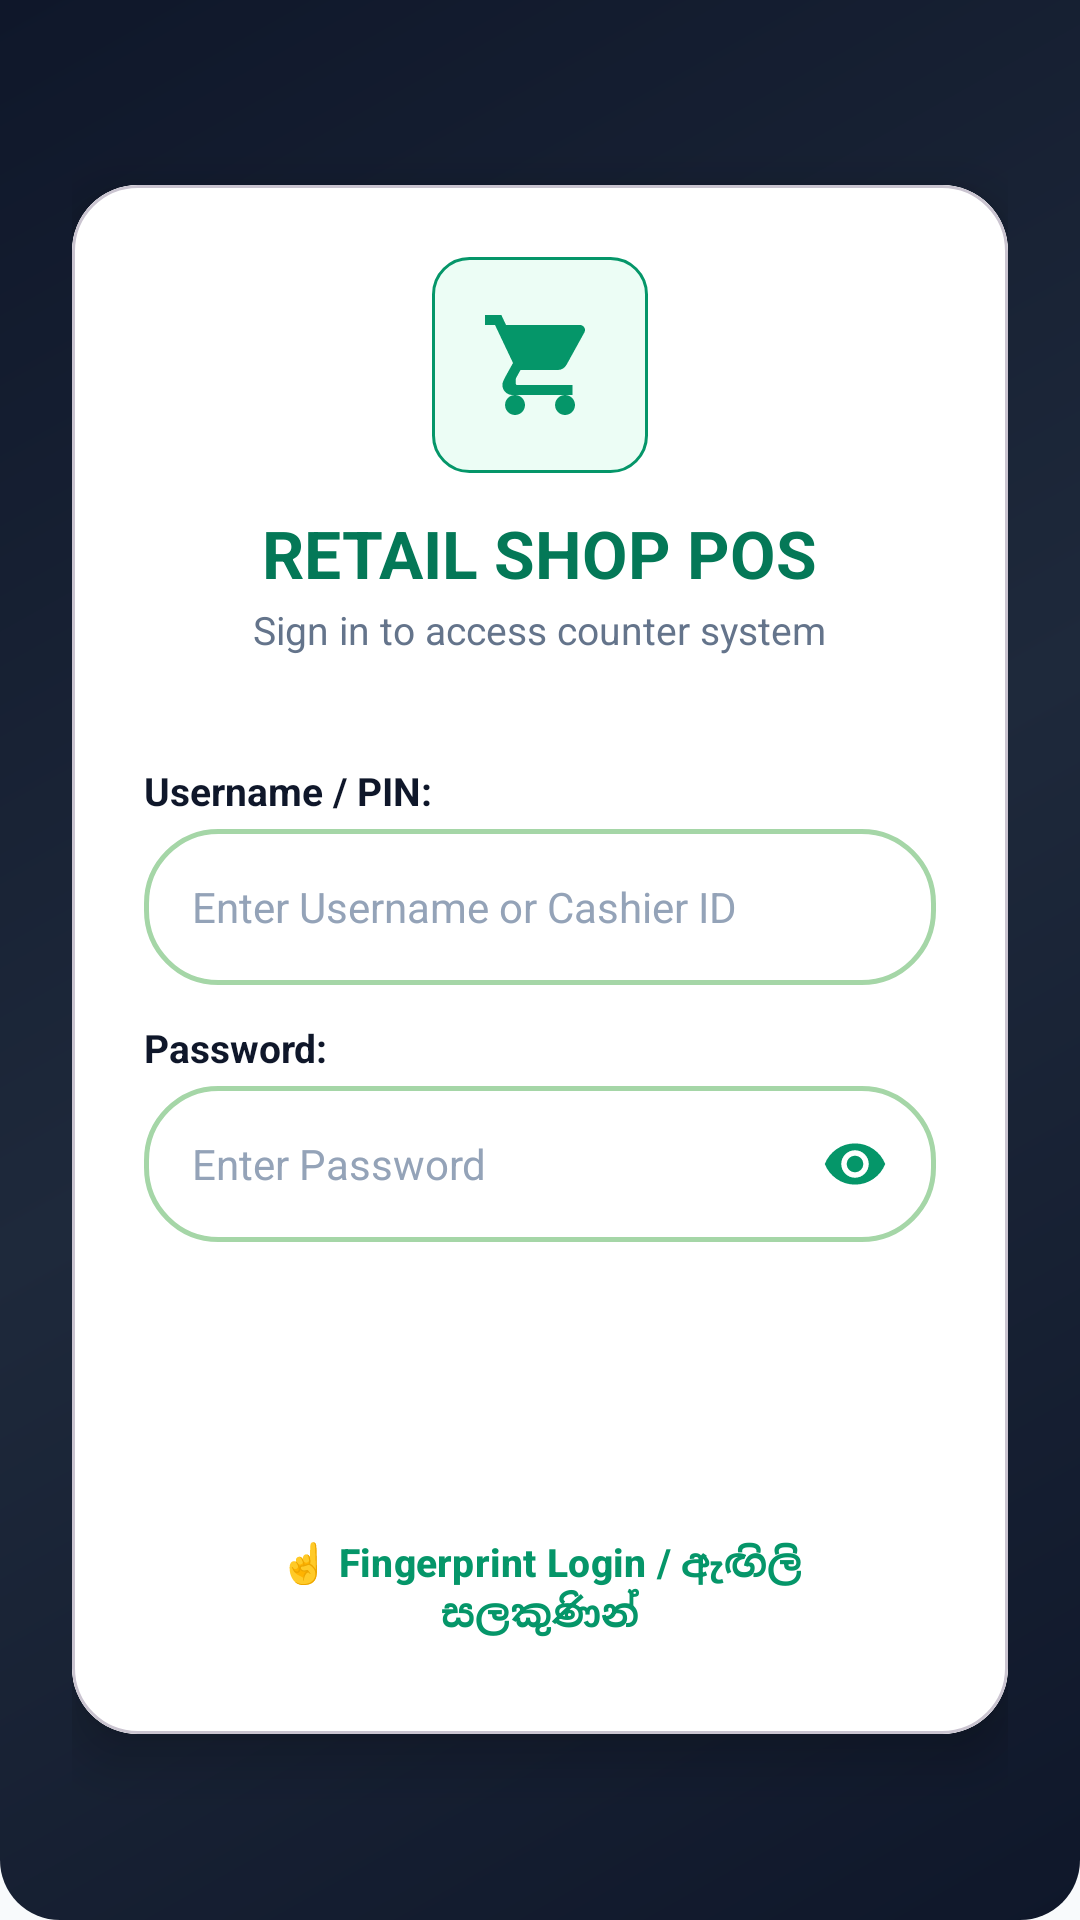

Named icons in this screenshot (1080w x 1920h) and their bounding boxes, [x1, y1, x2, y2]:
Toggle Password Visibility: [825, 1143, 885, 1185]
